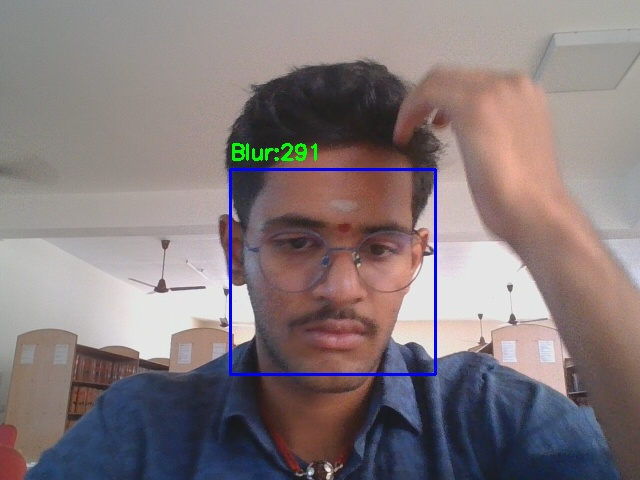real: (230, 169, 435, 374)
